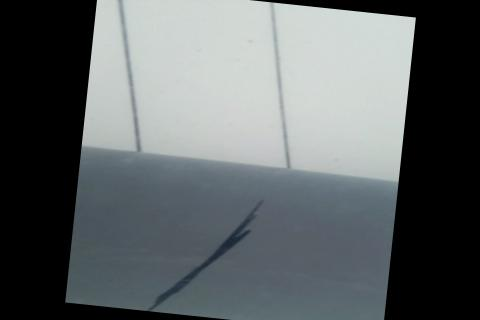keretakan: (138, 187, 267, 320)
